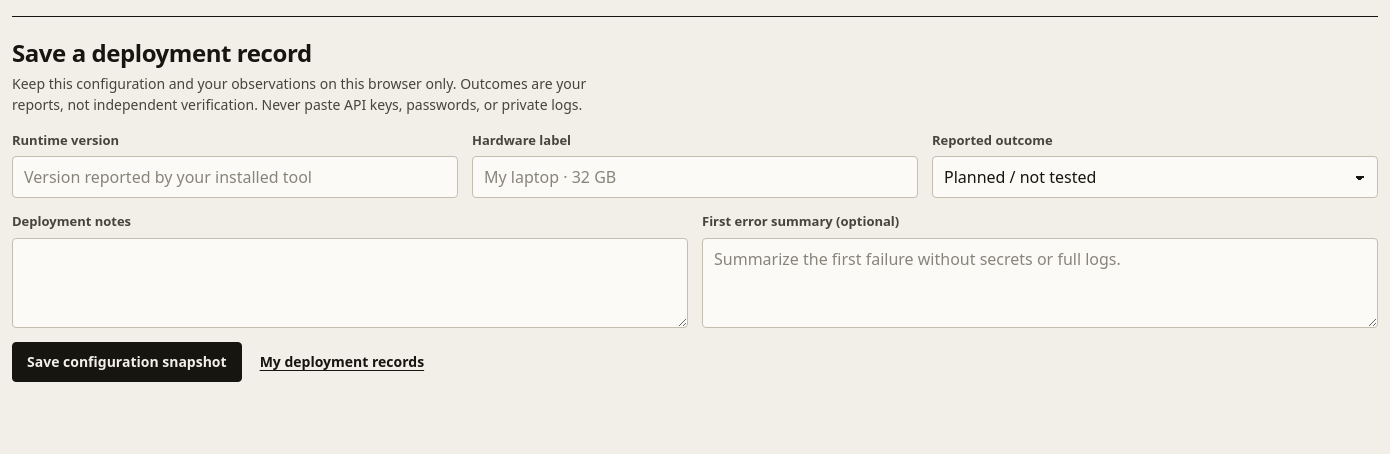
saves a user-reported record without claiming verified deployment
Type "Testing locally" into the text box labelled "Deployment notes".
click(350, 283); type("Testing locally")  # box top-left (12, 238), bottom-right (688, 328)
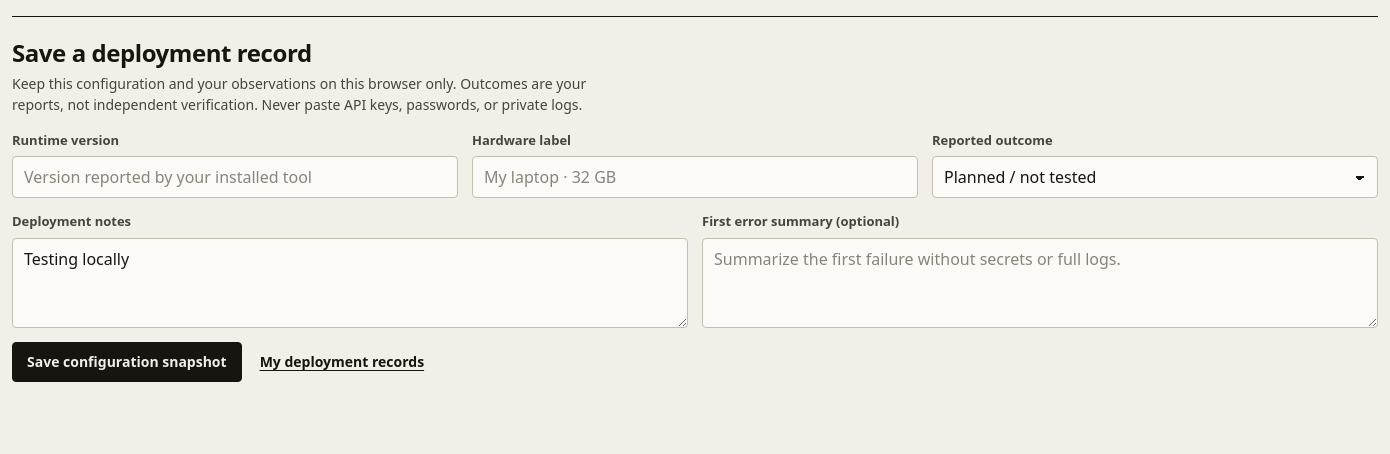
Click the button "Save configuration snapshot".
click(127, 362)  # box top-left (12, 342), bottom-right (242, 382)
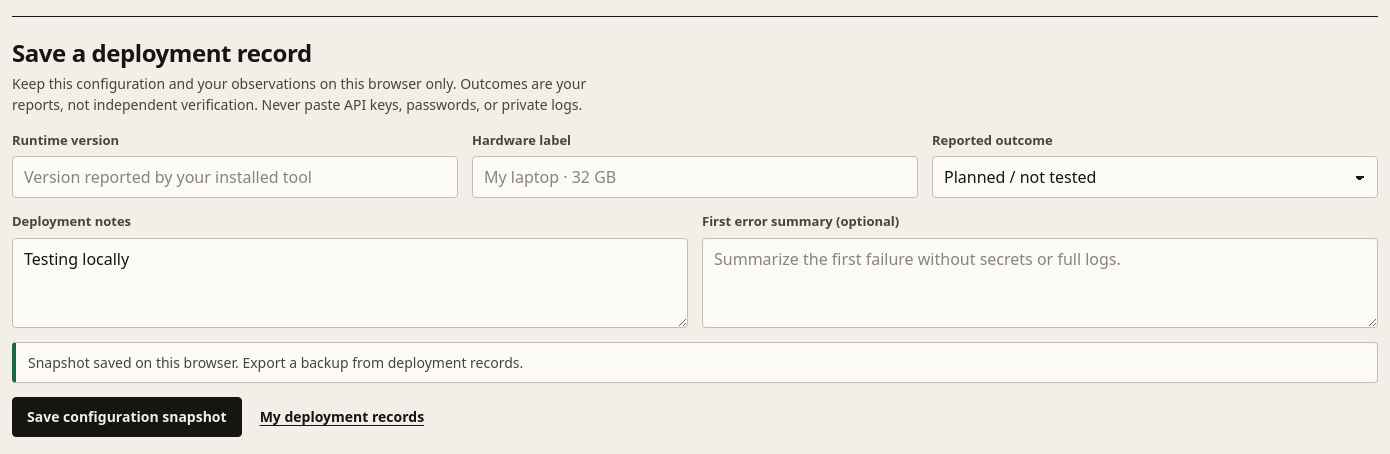
Now the message shows "Snapshot saved", box top-left (28, 353), bottom-right (523, 372)
